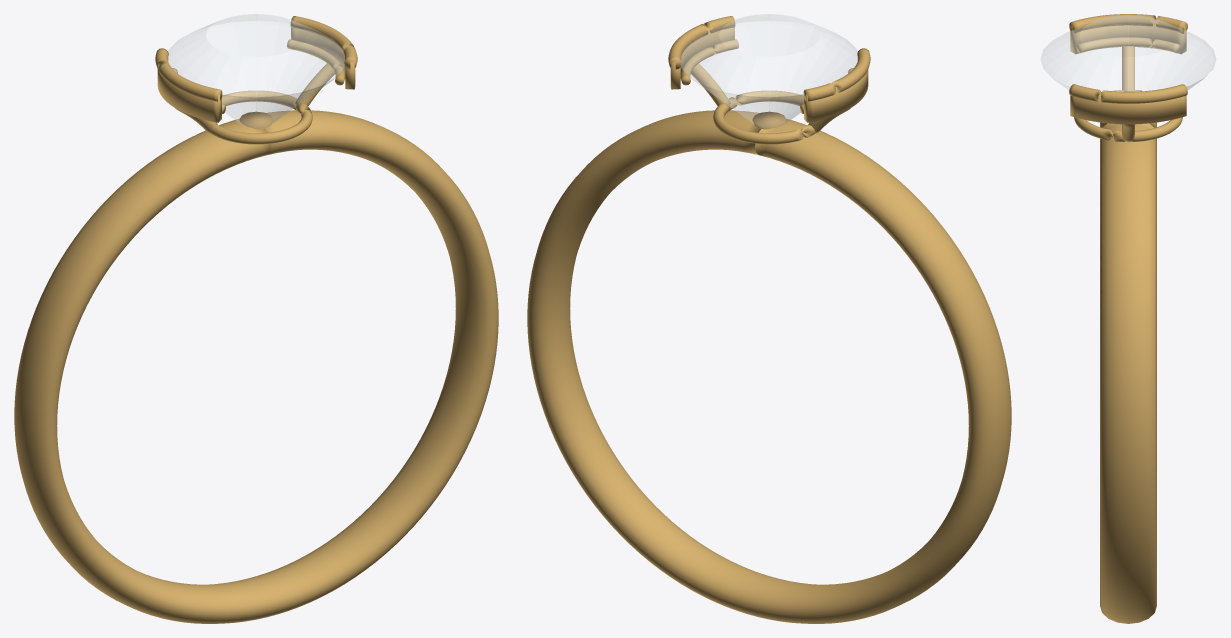
The model's file is settings-partial-bezel.glb.
The picture shows the model from 3 angles, left to right: view 1: azimuth 30°, elevation 25°; view 2: azimuth 150°, elevation 25°; view 3: azimuth 270°, elevation 25°; orthographic projection. The views are drawn at different scales.
Visible parts, largest first — view 1: Band, Gem, Lower gallery, Bezel wall.001, Partial bezel.001, Partial bezel, Bezel wall, Partial bezel.002; view 2: Band, Gem, Lower gallery, Bezel wall.001, Partial bezel.001, Partial bezel, Bezel wall, Partial bezel.002; view 3: Band, Gem, Bezel wall, Bezel wall.001, Partial bezel, Partial bezel.001, Lower gallery, Partial bezel.003, Bezel support.
Boxes of the visible parts, <box> form: Band: <box>14,110,498,623</box>; Gem: <box>168,14,344,128</box>; Lower gallery: <box>210,90,312,144</box>; Bezel wall.001: <box>157,69,221,122</box>; Partial bezel.001: <box>155,48,222,101</box>; Partial bezel: <box>290,16,357,69</box>; Bezel wall: <box>291,27,355,89</box>; Partial bezel.002: <box>287,39,344,85</box>; Band: <box>527,110,1011,623</box>; Gem: <box>681,14,857,128</box>; Lower gallery: <box>713,90,815,144</box>; Bezel wall.001: <box>804,69,868,122</box>; Partial bezel.001: <box>803,48,870,101</box>; Partial bezel: <box>668,16,735,69</box>; Bezel wall: <box>670,27,734,89</box>; Partial bezel.002: <box>681,39,738,85</box>; Band: <box>1100,122,1156,623</box>; Gem: <box>1040,15,1216,125</box>; Bezel wall: <box>1070,92,1186,124</box>; Bezel wall.001: <box>1070,18,1186,53</box>; Partial bezel: <box>1069,84,1187,103</box>; Partial bezel.001: <box>1069,14,1187,33</box>; Lower gallery: <box>1074,90,1182,141</box>; Partial bezel.003: <box>1076,37,1180,53</box>; Bezel support: <box>1122,46,1134,91</box>.
Size of the model in its own units: 19.6 by 22.94 by 6.5.
